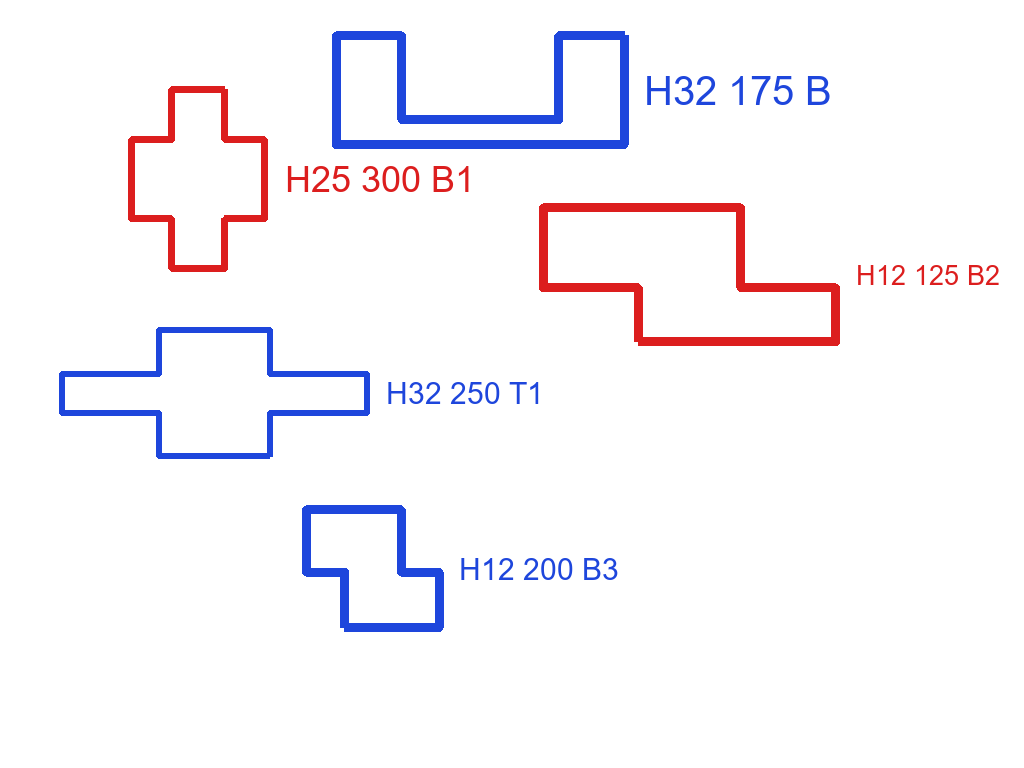shape: (537, 201, 842, 348), (58, 325, 371, 462), (330, 29, 631, 151), (126, 84, 270, 274), (300, 503, 446, 634)
text: (642, 74, 834, 107), (283, 164, 477, 194), (457, 556, 621, 582), (384, 380, 546, 406), (854, 263, 1002, 287)
